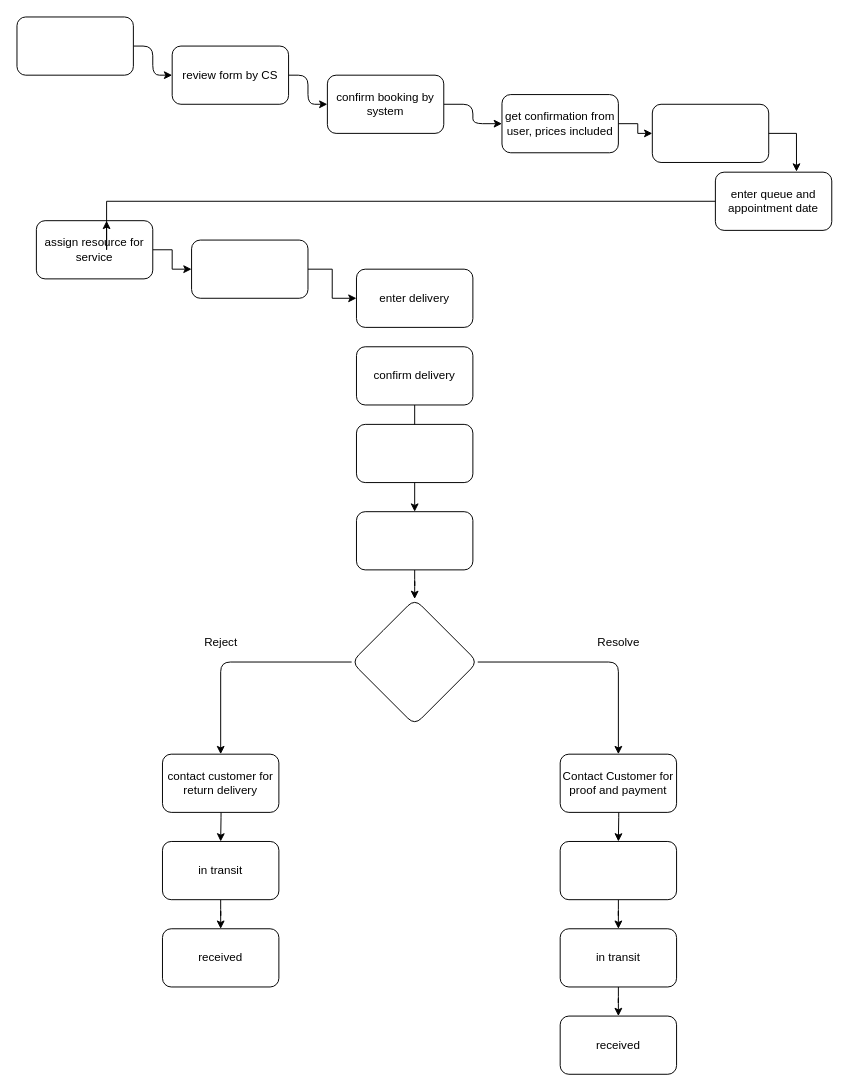
Image size: 849x1091. Some labels were removed from this diagram. The shapes that lost their labels are listed below. From the top down, each one's box as (x1, y1, x2, y2) in pixels, then its label:
(16, 16, 133, 75): user enter form
(651, 103, 769, 162): appointment date
(191, 239, 308, 298): contact for inbound delivery
(356, 423, 473, 483): in queue
(356, 511, 473, 570): resolution
(351, 598, 478, 725): remarks
(559, 841, 677, 900): received payment
